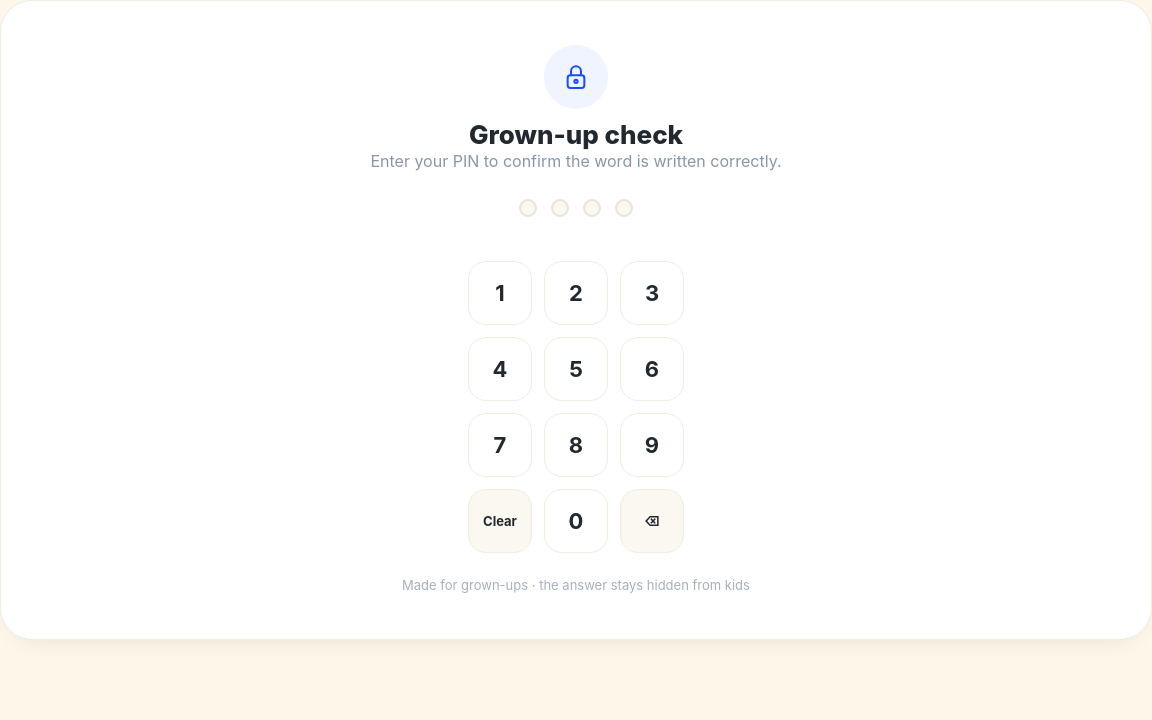
Test case: ParentVerify › uses the kid name in the prompt when provided
Click the button "1": (500, 293) left=468, top=261, right=532, bottom=325
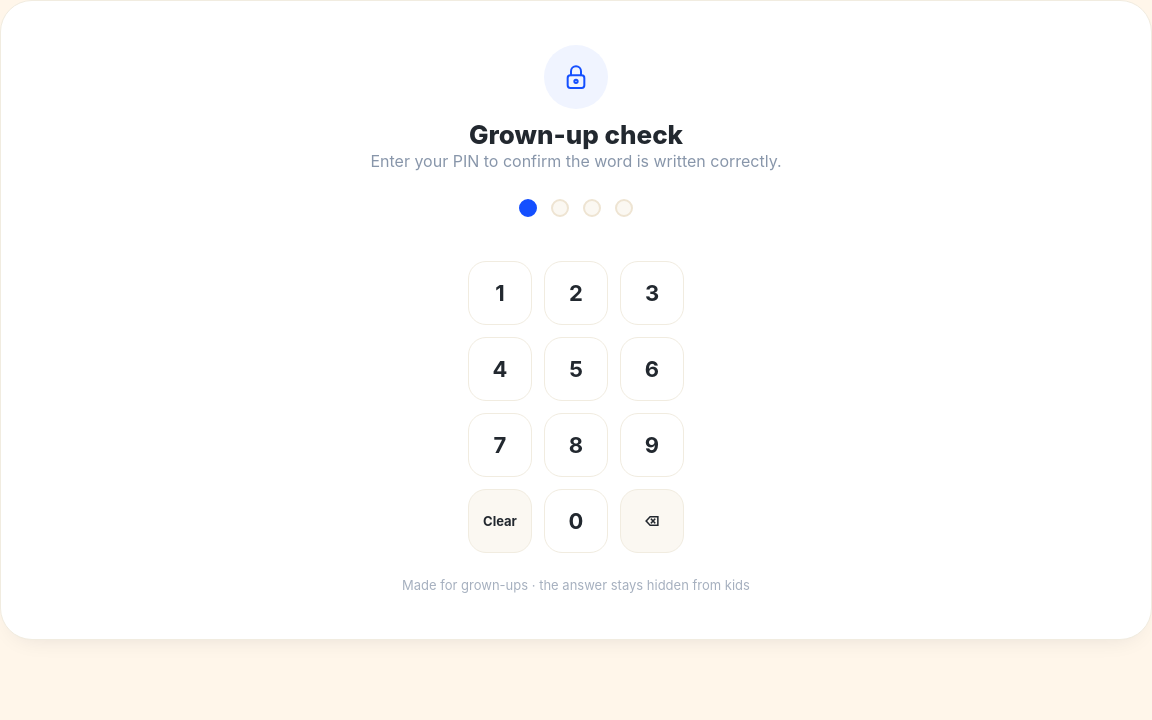
Click the button "2": (576, 293) left=544, top=261, right=608, bottom=325
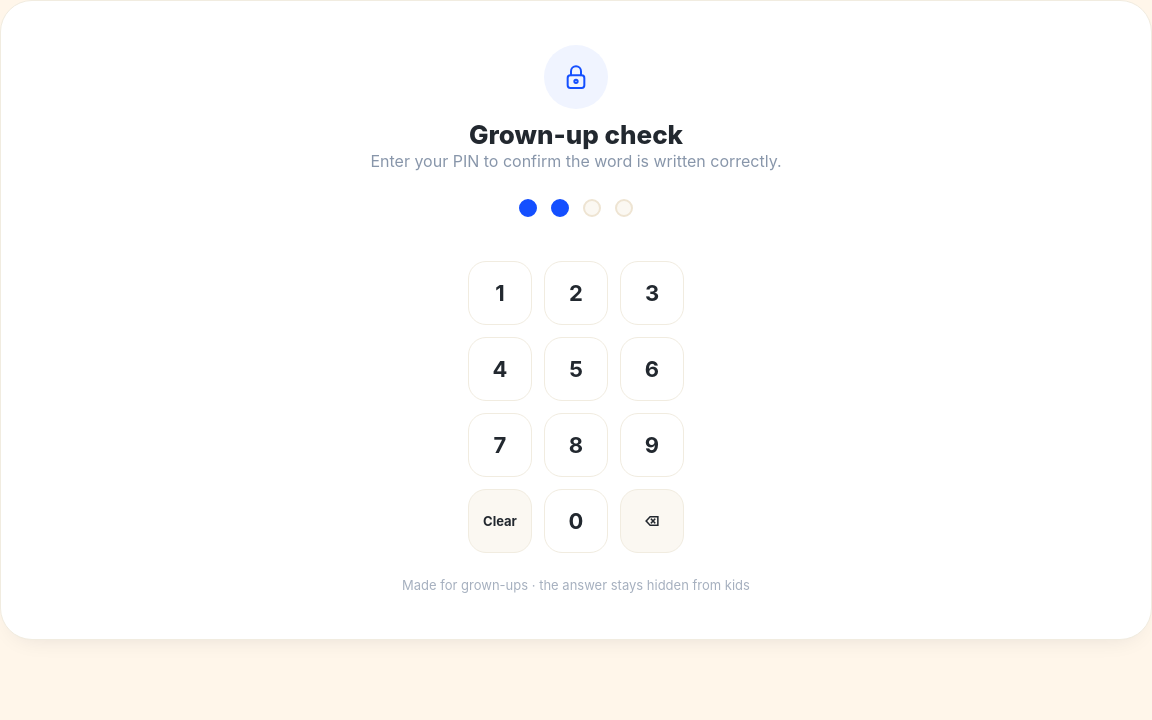
Click the button "3": (652, 293) left=620, top=261, right=684, bottom=325
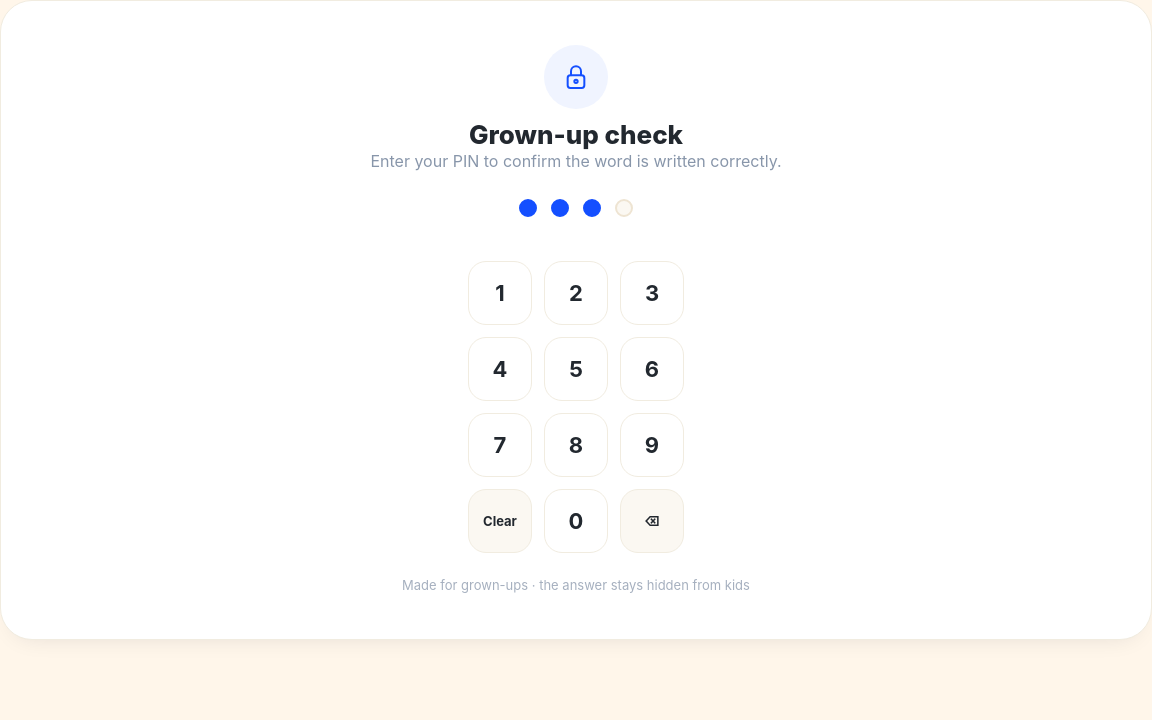
Click the button "4": (500, 369) left=468, top=337, right=532, bottom=401
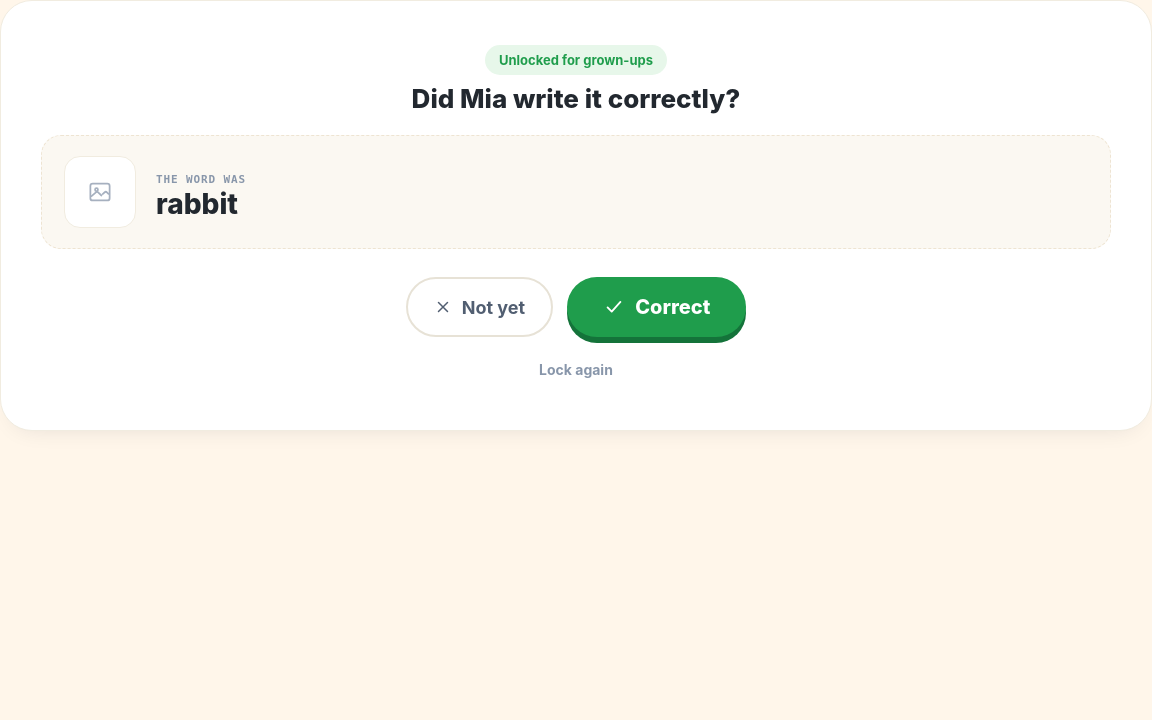
Now the text "Did Mia write it correctly?" is shown, box left=412, top=83, right=740, bottom=114
